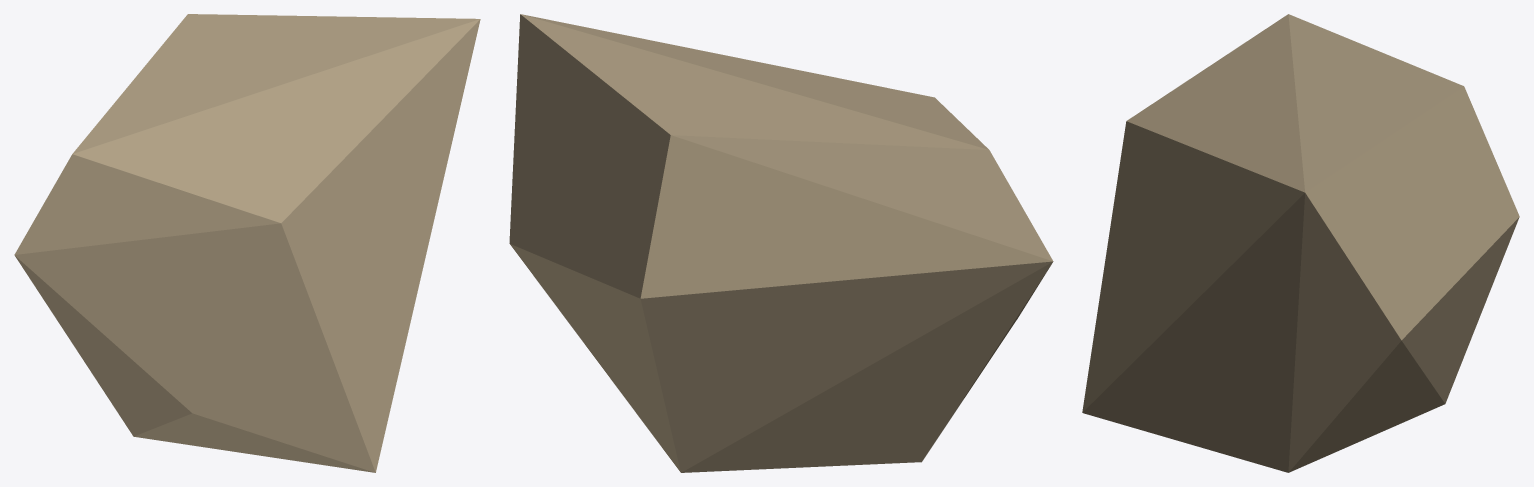
File: Rock-B06.fbx
3 renders of one model, left to right at view 1: azimuth 30°, elevation 25°; view 2: azimuth 150°, elevation 25°; view 3: azimuth 270°, elevation 25°, orthographic. The views are drawn at different scales.
Parts seen in each view (by area): view 1: Rock-B06; view 2: Rock-B06; view 3: Rock-B06.
Boxes of the visible parts, x1,y1,x2,y2 form: Rock-B06: (14,14,480,472); Rock-B06: (509,14,1053,472); Rock-B06: (1082,14,1519,472).
Size of the model in its own units: 56.97 by 37.4 by 44.75.
